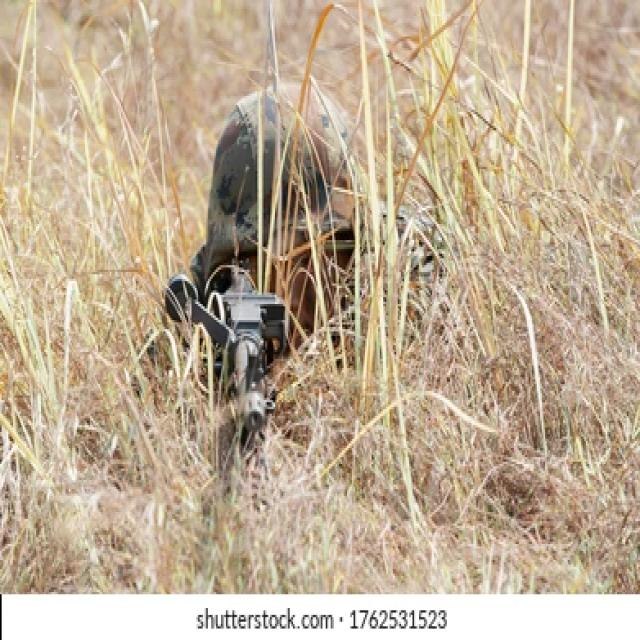soldier: (162, 75, 460, 499)
